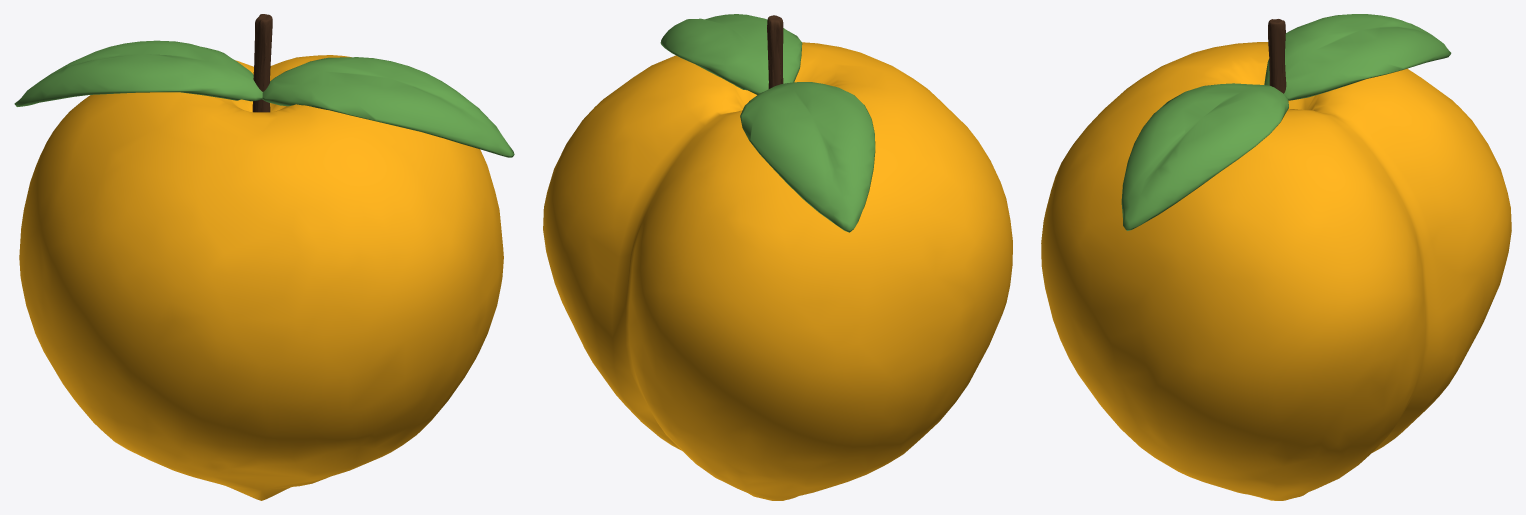
Rendered from Toy6.fbx.
The picture shows the model from 3 angles, left to right: view 1: azimuth 30°, elevation 25°; view 2: azimuth 150°, elevation 25°; view 3: azimuth 270°, elevation 25°; orthographic projection.
Visible parts, largest first — view 1: Toy6; view 2: Toy6; view 3: Toy6.
Boxes of the visible parts, left/top/right/bottom form: Toy6: left=14, top=14, right=514, bottom=500; Toy6: left=543, top=14, right=1012, bottom=500; Toy6: left=1041, top=14, right=1511, bottom=500.
Size of the model in its own units: 0.137 by 0.1499 by 0.1332.
